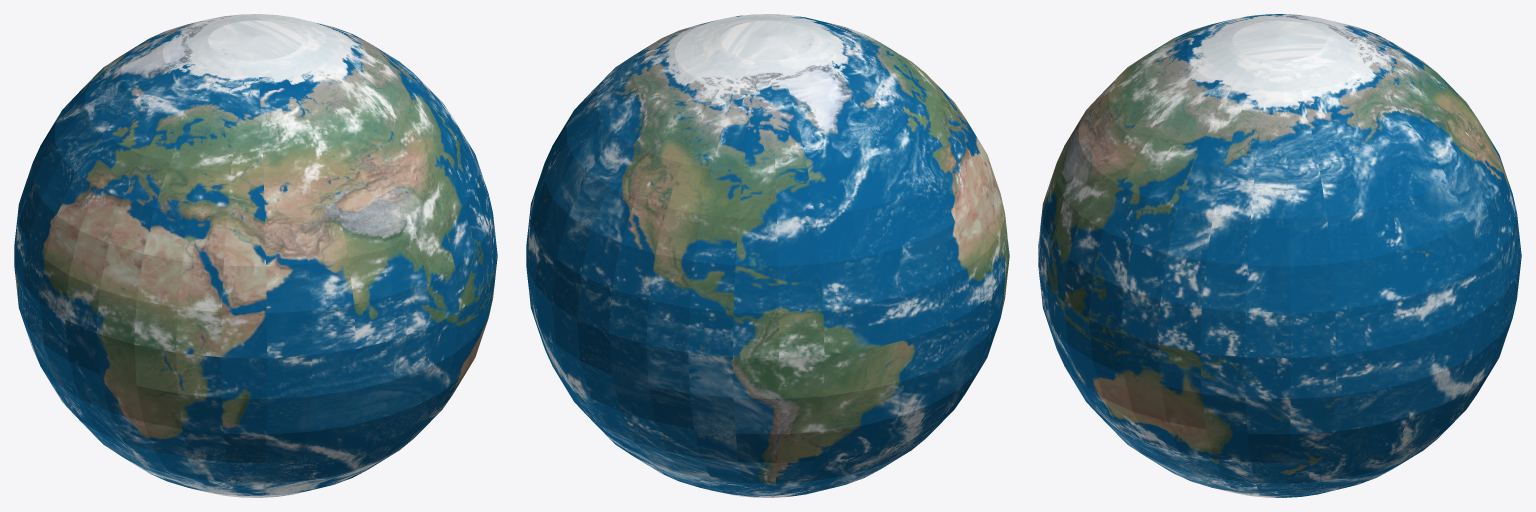
Rendered from earth.fbx.
3 renders of one model, left to right at view 1: azimuth 30°, elevation 25°; view 2: azimuth 150°, elevation 25°; view 3: azimuth 270°, elevation 25°, orthographic.
Parts seen in each view (by area): view 1: Sphere; view 2: Sphere; view 3: Sphere.
Part boxes in pixels (x1,y1,x2,y2): Sphere: [14, 14, 497, 497]; Sphere: [526, 14, 1009, 497]; Sphere: [1038, 14, 1521, 497].
Bounding box in the file's own units: 799 × 800 × 798.
Materials: 1 (1 with a texture image).
